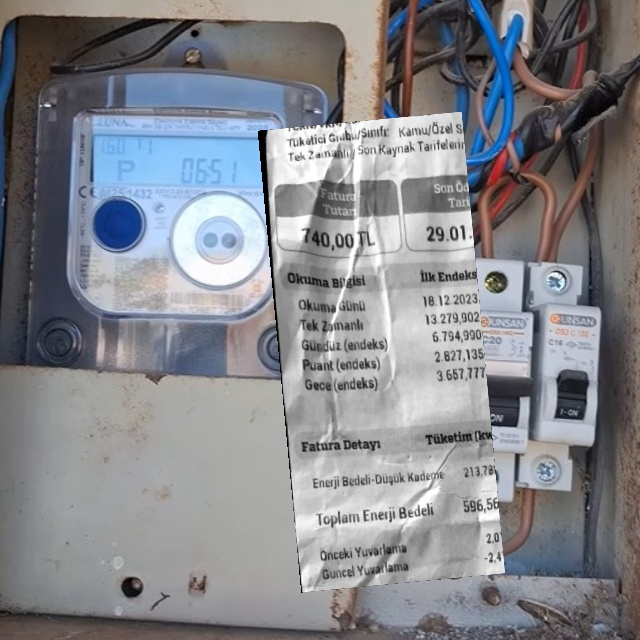electricity-bill: (258, 111, 505, 593)
